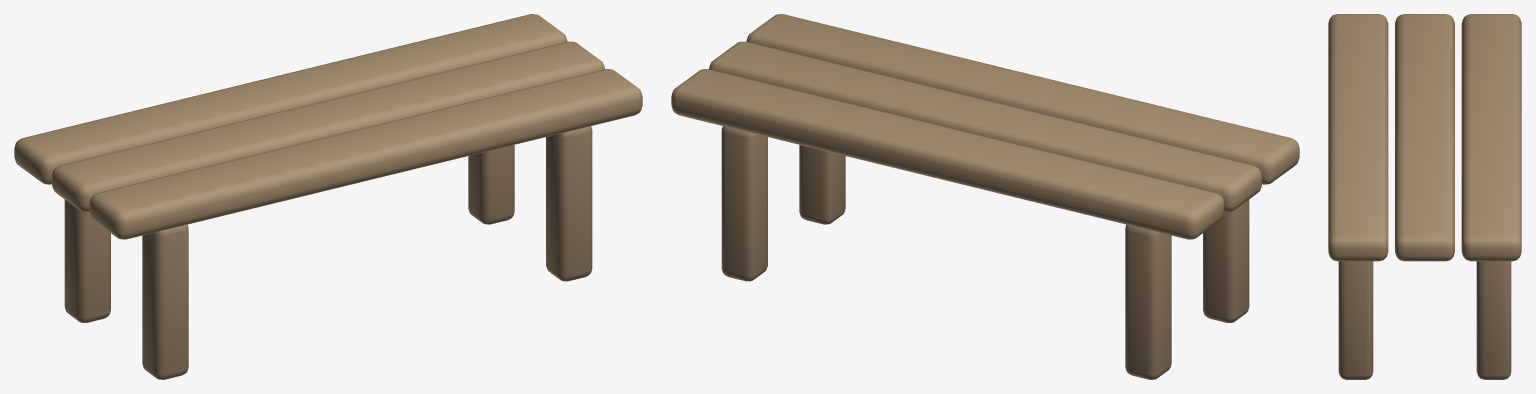
Rendered from SM_Bench.fbx.
The picture shows the model from 3 angles, left to right: view 1: azimuth 30°, elevation 25°; view 2: azimuth 150°, elevation 25°; view 3: azimuth 270°, elevation 25°; orthographic projection. The views are drawn at different scales.
Parts seen in each view (by area): view 1: SM_Bench; view 2: SM_Bench; view 3: SM_Bench.
Part boxes in pixels (<box>): SM_Bench: <box>14,14,642,379</box>; SM_Bench: <box>671,14,1299,379</box>; SM_Bench: <box>1328,14,1521,379</box>.
Bounding box in the file's own units: 235 × 84 × 78.
